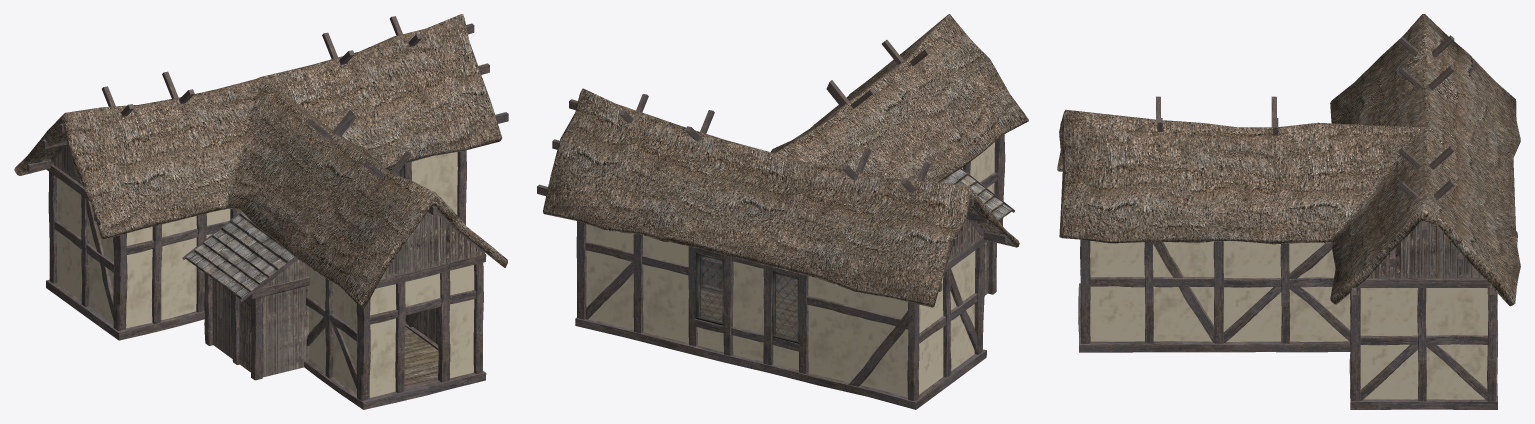
Rendered from casa_paglia.glb.
The picture shows the model from 3 angles, left to right: view 1: azimuth 30°, elevation 25°; view 2: azimuth 150°, elevation 25°; view 3: azimuth 270°, elevation 25°; orthographic projection. The views are drawn at different scales.
Parts seen in each view (by area): view 1: casa_paglia, casa_paglia_aggiunte; view 2: casa_paglia; view 3: casa_paglia.
Boxes of the visible parts, x1,y1,x2,y2 form: casa_paglia: [14, 14, 508, 409]; casa_paglia_aggiunte: [161, 237, 196, 320]; casa_paglia: [537, 14, 1028, 409]; casa_paglia: [1057, 14, 1520, 409].
Bounding box in the file's own units: 11.56 × 5.62 × 10.87.
8 materials, 8 textured.
